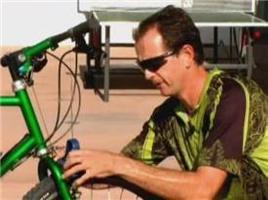person: (60, 6, 268, 200)
